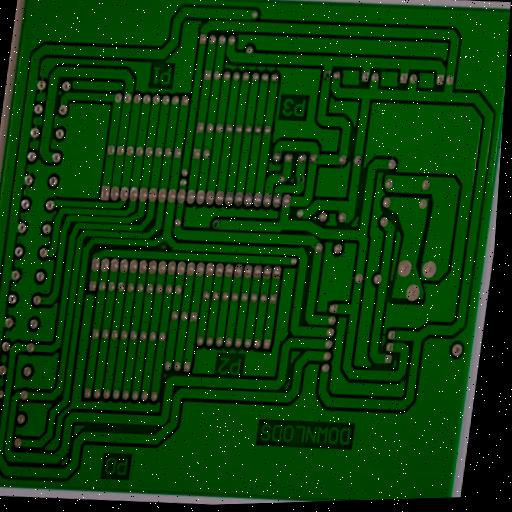missing_hole: (295, 173, 308, 187), (322, 68, 333, 82), (211, 218, 221, 231)
